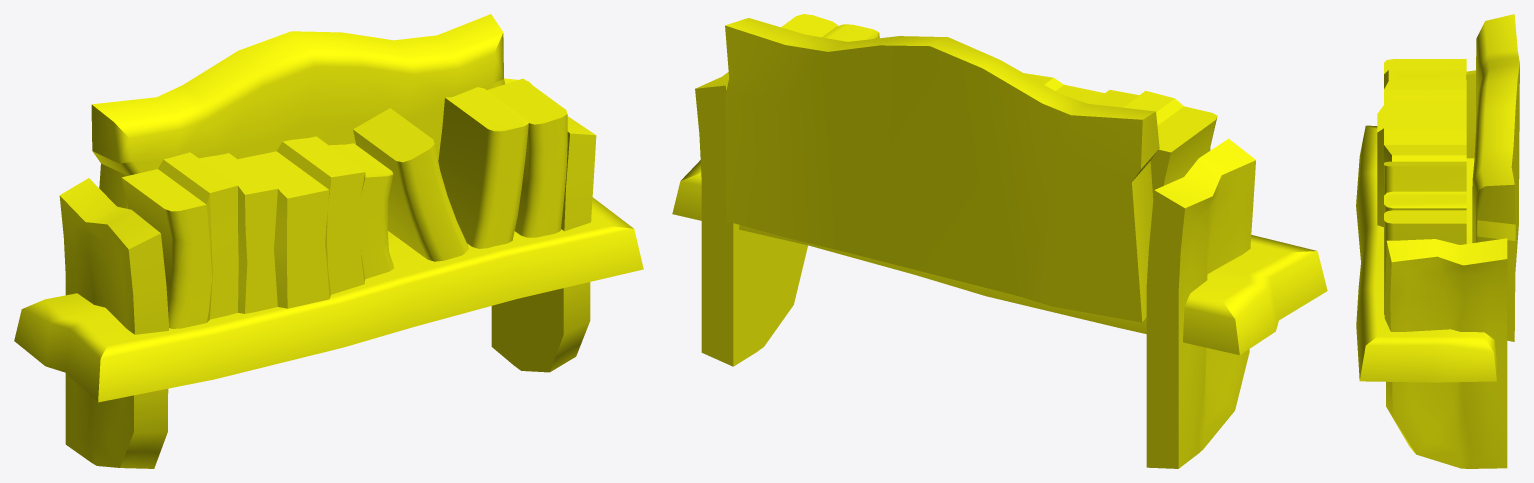
Rendered from bookshelf.glb.
3 views of the same model, side by side, from view 1: azimuth 30°, elevation 25°; view 2: azimuth 150°, elevation 25°; view 3: azimuth 270°, elevation 25° (orthographic). The views are drawn at different scales.
Parts seen in each view (by area): view 1: tavern_book_shelf_full_LOD0; view 2: tavern_book_shelf_full_LOD0; view 3: tavern_book_shelf_full_LOD0.
Boxes of the visible parts, x1,y1,x2,y2 form: tavern_book_shelf_full_LOD0: (14, 14, 643, 468); tavern_book_shelf_full_LOD0: (672, 14, 1327, 468); tavern_book_shelf_full_LOD0: (1356, 14, 1519, 468).
Size of what is drawn, in the model's own units: 2.2 by 1.38 by 0.6742.
Materials: 1 (1 with a texture image).
